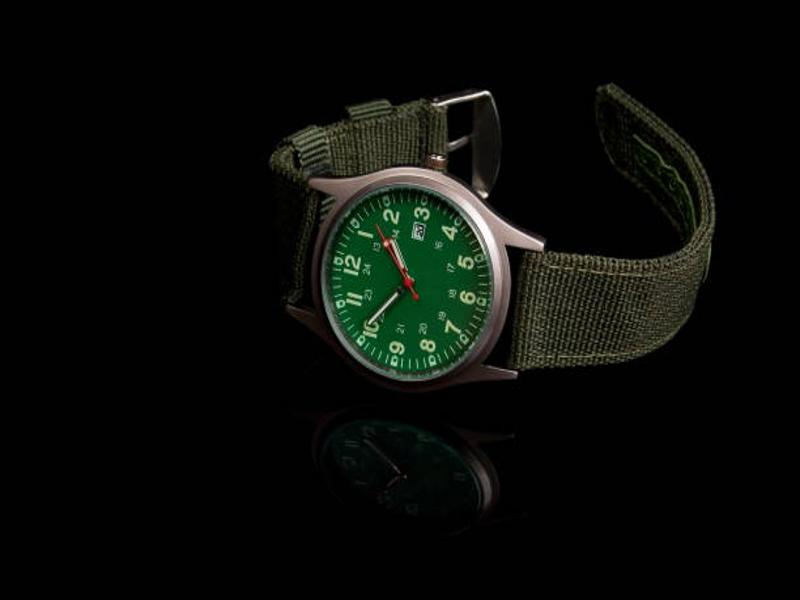watch: (260, 82, 718, 382)
